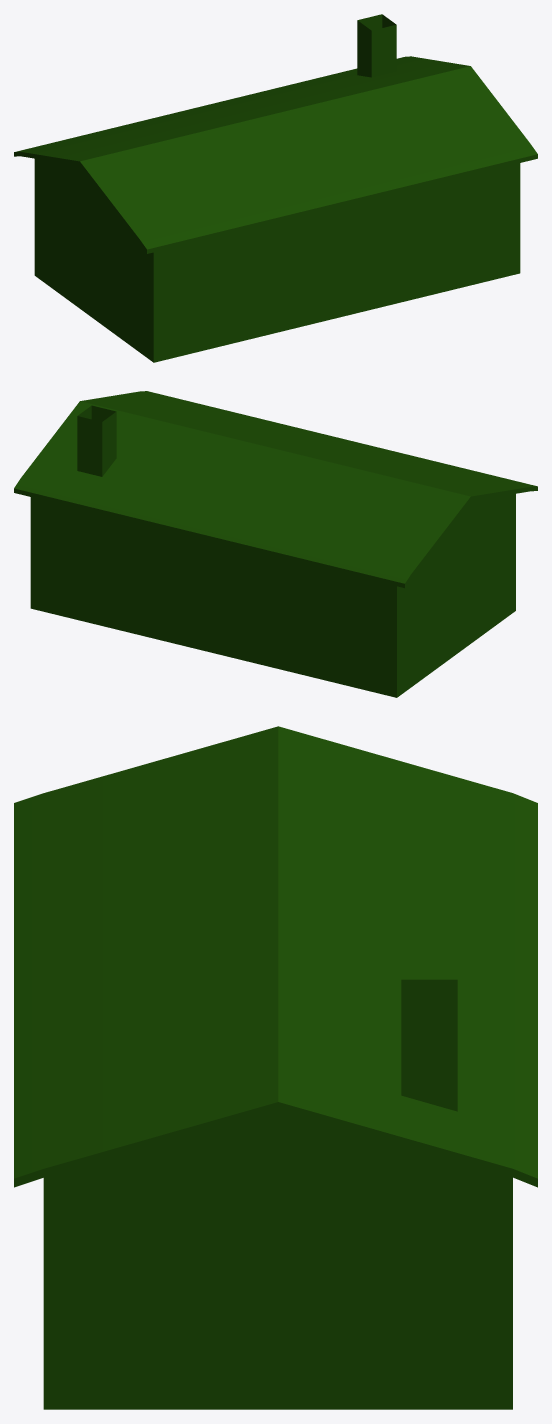
The model's file is BGHouse_04.fbx.
The picture shows the model from 3 angles, top to bottom: view 1: azimuth 30°, elevation 25°; view 2: azimuth 150°, elevation 25°; view 3: azimuth 270°, elevation 25°; orthographic projection. The views are drawn at different scales.
Parts seen in each view (by area): view 1: BGHouse_05; view 2: BGHouse_05; view 3: BGHouse_05.
Part boxes in pixels (x1=…): BGHouse_05: x1=14, y1=14, x2=537, y2=362; BGHouse_05: x1=14, y1=391, x2=537, y2=697; BGHouse_05: x1=14, y1=726, x2=537, y2=1409.
Size of the model in its own units: 4.71 by 2.19 by 2.78.
